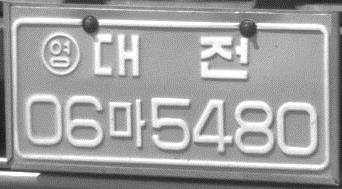0: (276, 100, 318, 158), (25, 93, 63, 146)
4: (192, 97, 234, 155)
5: (148, 95, 191, 150)
6: (63, 94, 104, 148)
8: (233, 99, 275, 155)
대전_D: (91, 30, 250, 83)
마: (106, 97, 146, 150)
영: (40, 31, 81, 76)
